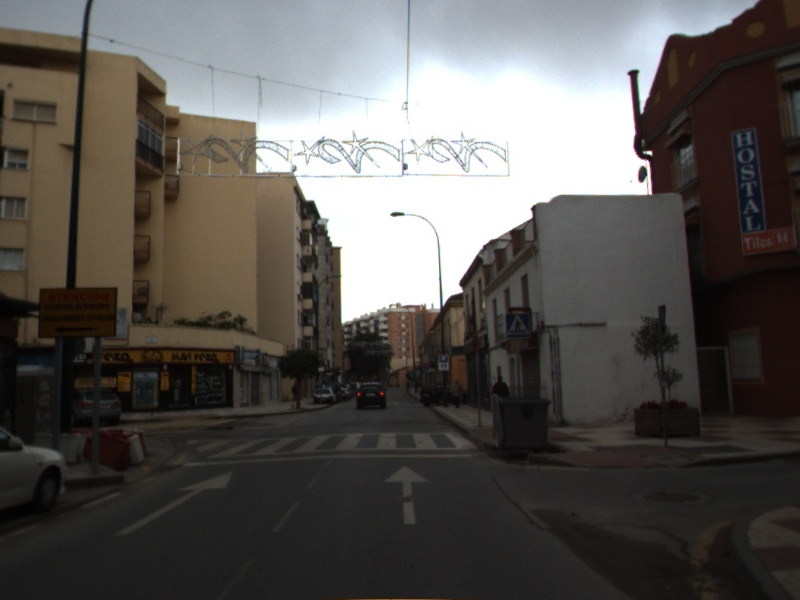STRAIGHT: (112, 469, 235, 538), (382, 463, 432, 526)
